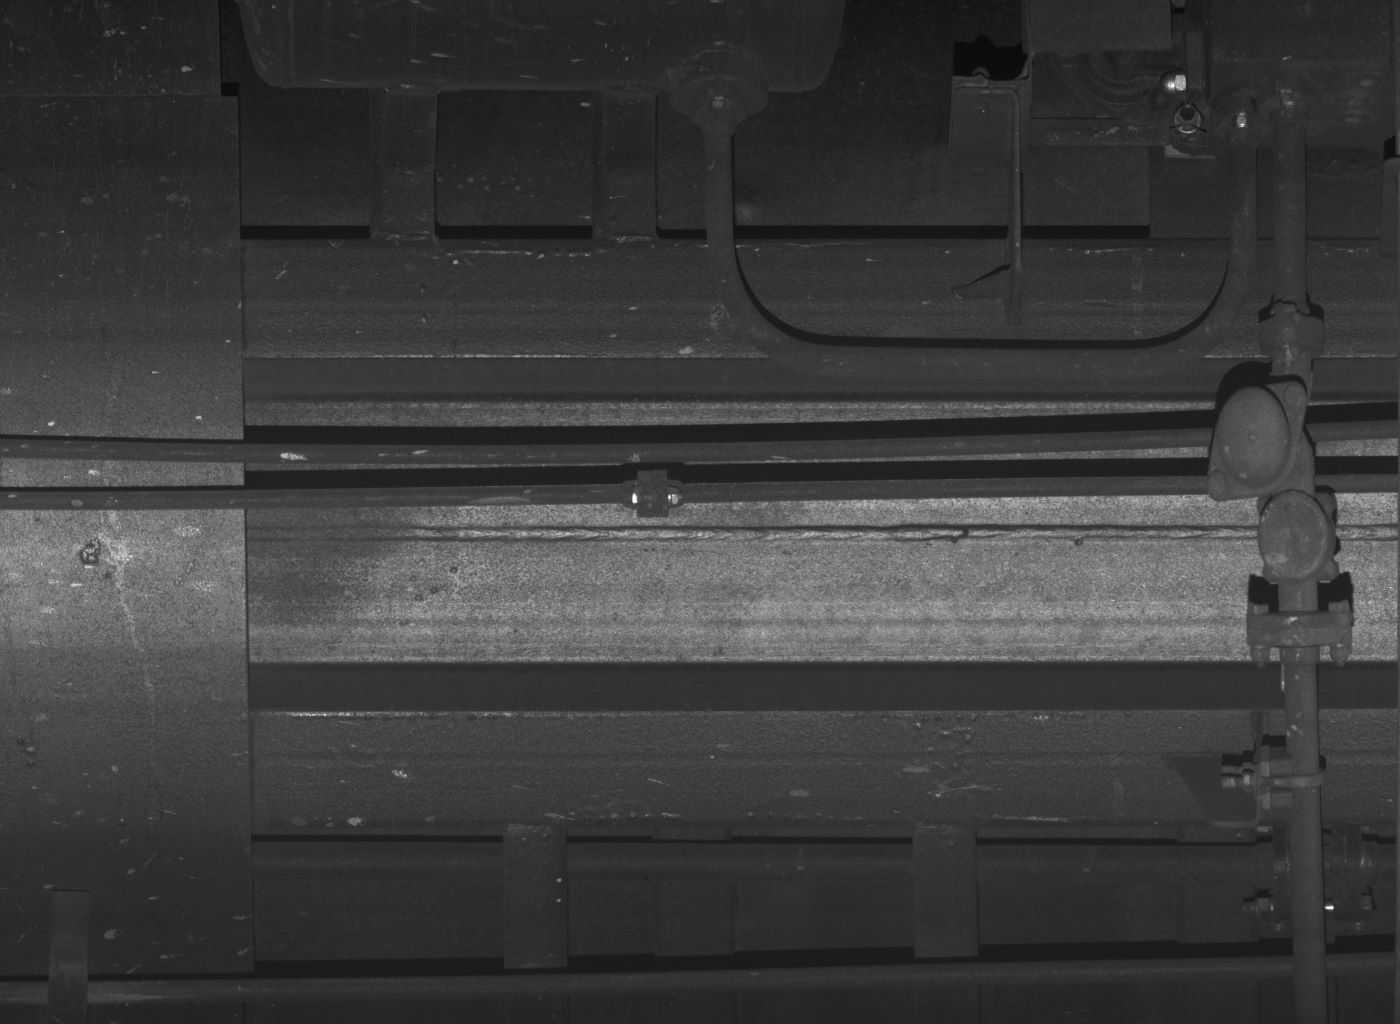normal: (1254, 485, 1338, 585)
